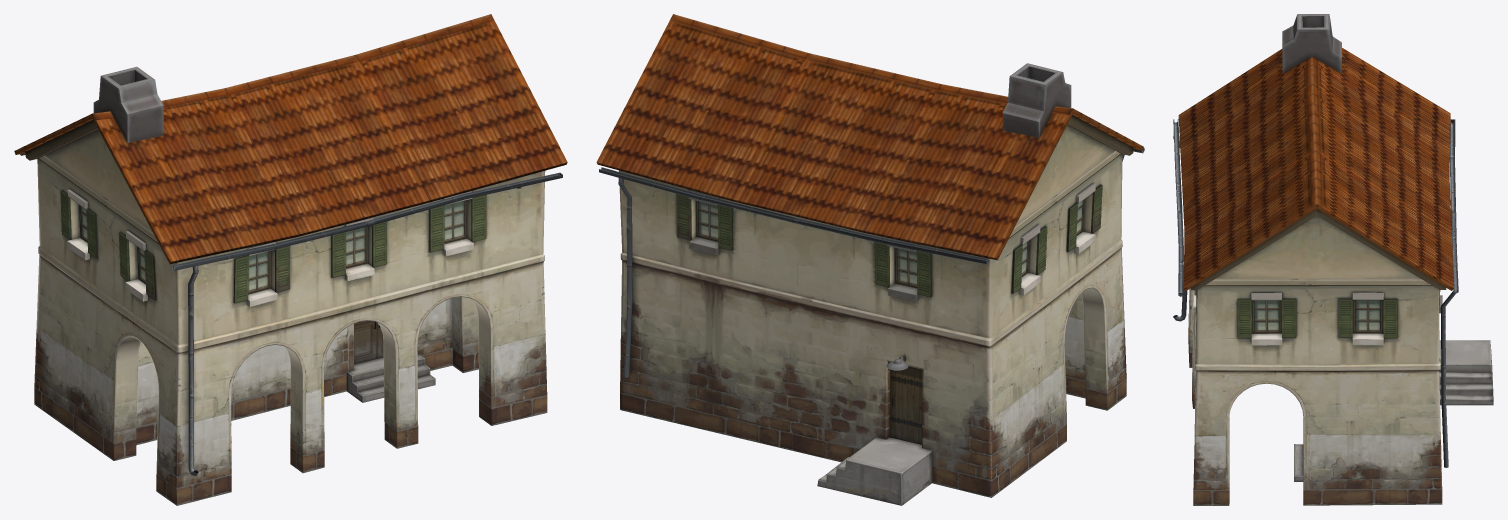
Rendered from townhousemedium.fbx.
3 views of the same model, side by side, from view 1: azimuth 30°, elevation 25°; view 2: azimuth 150°, elevation 25°; view 3: azimuth 270°, elevation 25° (orthographic). The views are drawn at different scales.
Visible parts, largest first — view 1: GEOM0_LOD0; view 2: GEOM0_LOD0; view 3: GEOM0_LOD0.
Boxes of the visible parts, x1,y1,x2,y2 form: GEOM0_LOD0: (14,14,567,505); GEOM0_LOD0: (596,14,1144,505); GEOM0_LOD0: (1173,14,1493,505).
Size of what is drawn, in the model's own units: 1213 by 1068 by 937.
